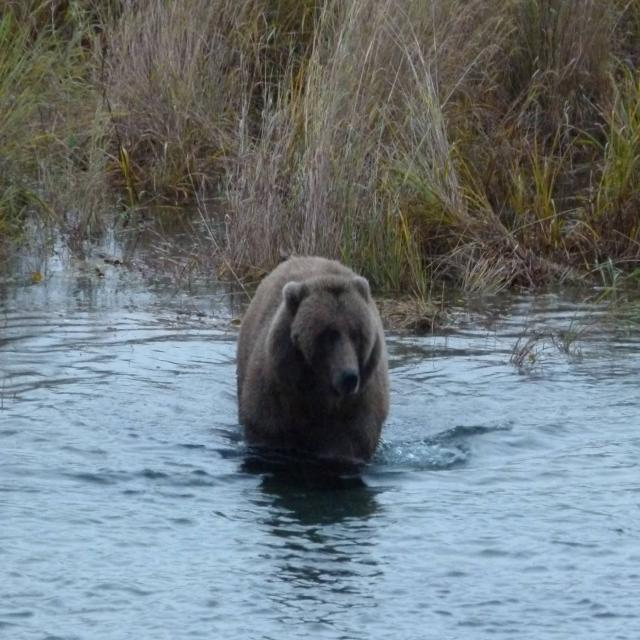bear face: (237, 253, 389, 451)
